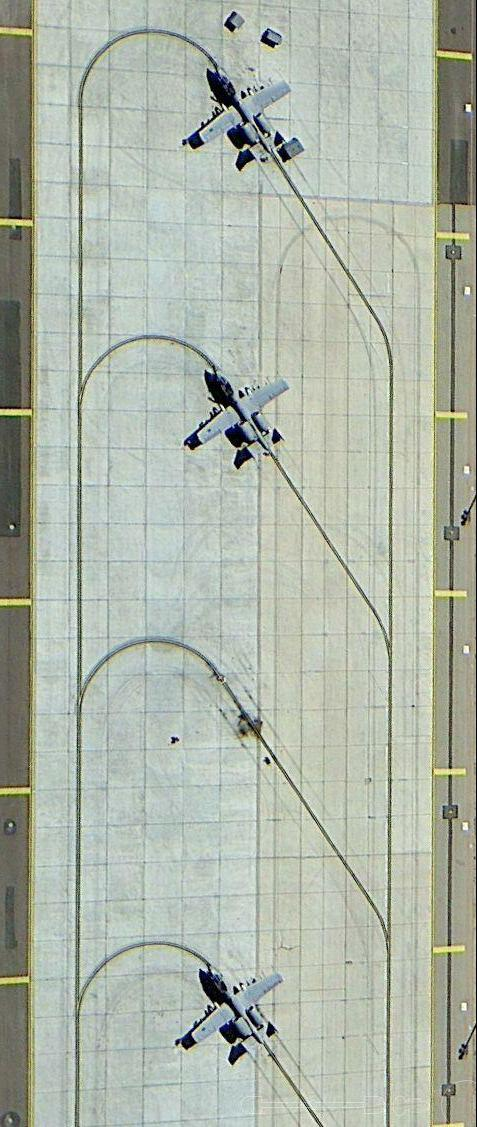A-10: (195, 59, 296, 173), (191, 362, 292, 465), (184, 961, 286, 1061)
